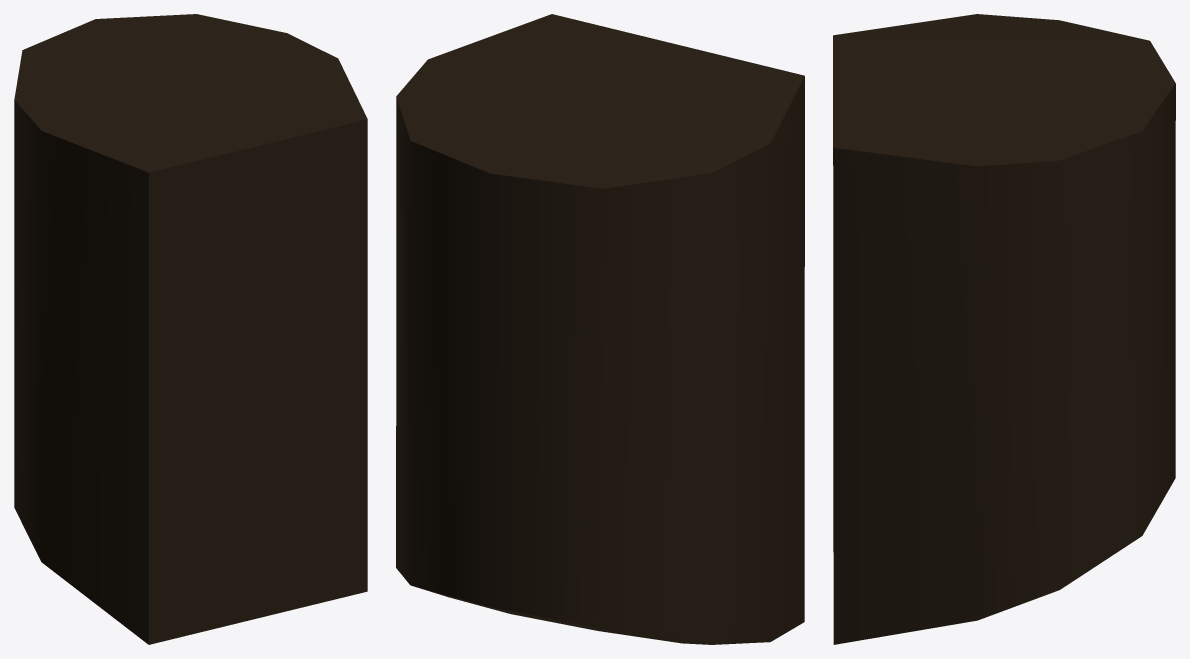
The model's file is Prop_sci_lamp3.FBX.
3 views of the same model, side by side, from view 1: azimuth 30°, elevation 25°; view 2: azimuth 150°, elevation 25°; view 3: azimuth 270°, elevation 25° (orthographic). The views are drawn at different scales.
Visible parts, largest first — view 1: Prop_sci_lamp3; view 2: Prop_sci_lamp3; view 3: Prop_sci_lamp3.
Boxes of the visible parts, box(x1,y1,x2,y2) form: Prop_sci_lamp3: box(14, 14, 367, 644); Prop_sci_lamp3: box(396, 14, 804, 644); Prop_sci_lamp3: box(833, 14, 1175, 644).
Bounding box in the file's own units: 7.15 × 11.06 × 6.79.
